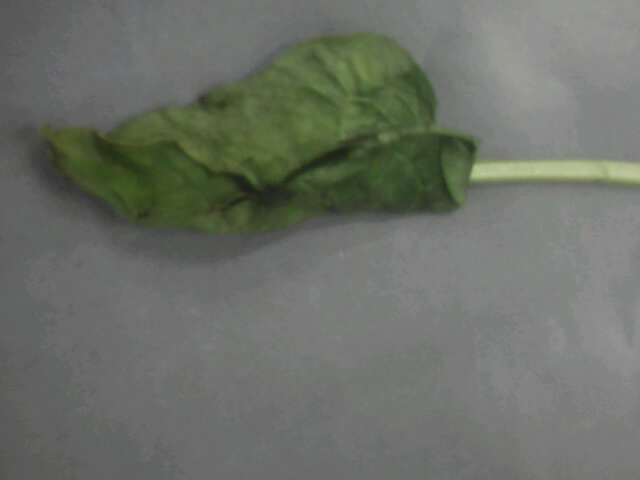yellow: (31, 28, 588, 237)
